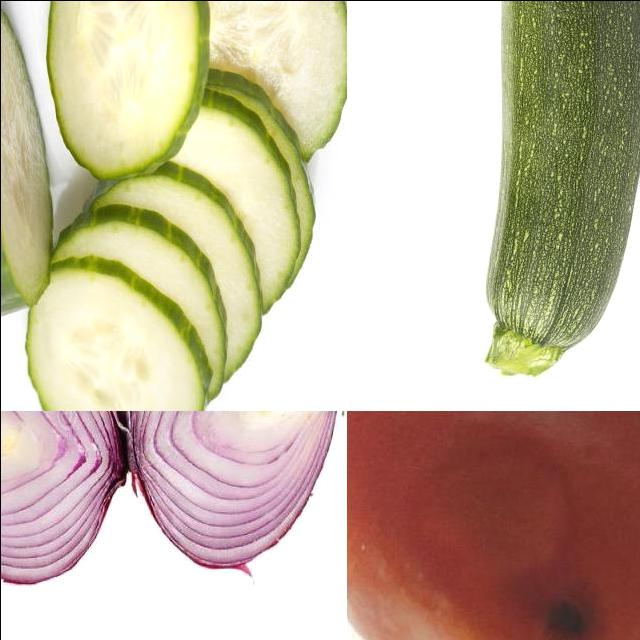cucumber: (50, 1, 211, 178), (1, 5, 52, 347)
onion: (128, 411, 347, 575), (1, 411, 127, 586)
zucchini: (485, 1, 640, 386)
